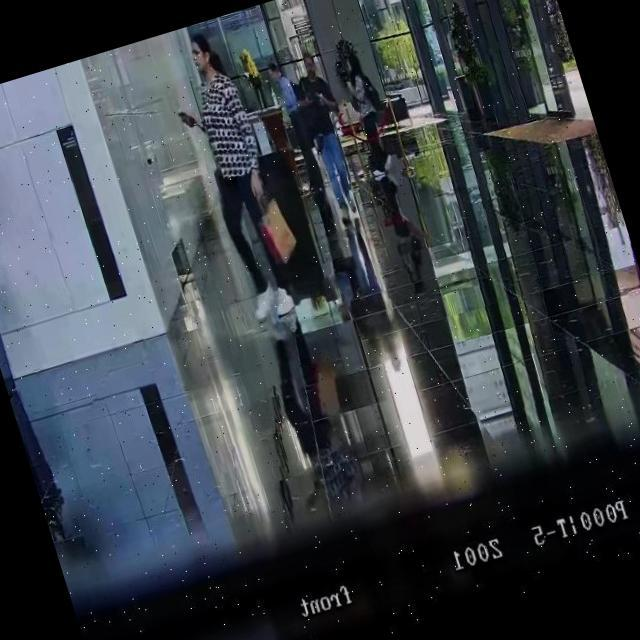person: (157, 22, 306, 326), (290, 48, 370, 220), (263, 51, 335, 220), (332, 54, 397, 180)
